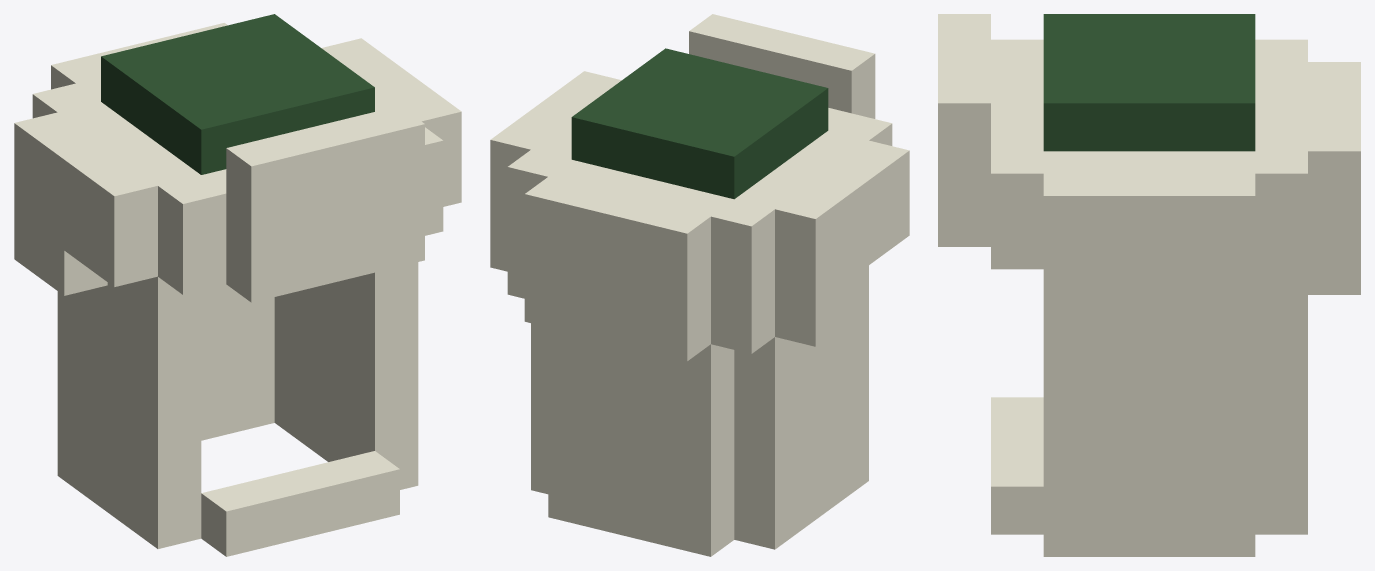
File: humanoid-176-helm_lgt_2g_sh.obj
3 views of the same model, side by side, from view 1: azimuth 30°, elevation 25°; view 2: azimuth 150°, elevation 25°; view 3: azimuth 270°, elevation 25° (orthographic). The views are drawn at different scales.
Parts seen in each view (by area): view 1: helm_lgt_2g_sh; view 2: helm_lgt_2g_sh; view 3: helm_lgt_2g_sh.
Part boxes in pixels (bbox=[...]): helm_lgt_2g_sh: bbox=[14, 14, 461, 556]; helm_lgt_2g_sh: bbox=[490, 14, 909, 556]; helm_lgt_2g_sh: bbox=[938, 14, 1360, 556].
Size of the model in its own units: 0.8 by 0.9 by 0.8.
1 material, 1 textured.
